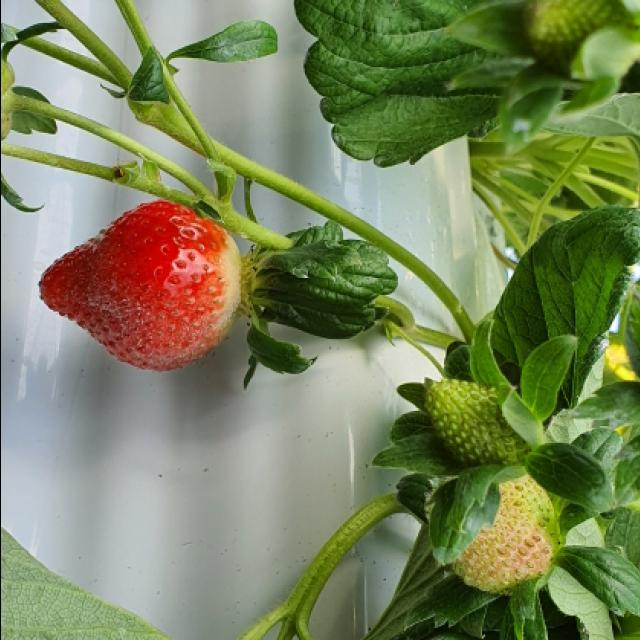Powdery Mildew Fruit: (69, 266, 238, 376)
